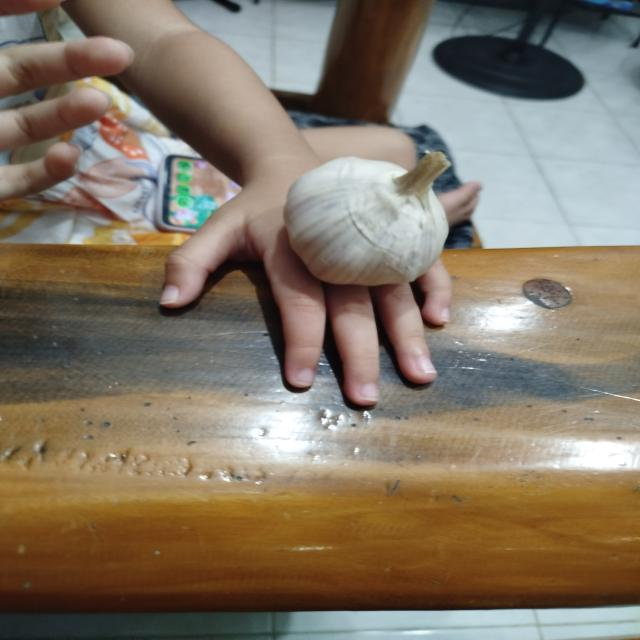garlic: (282, 151, 452, 286)
